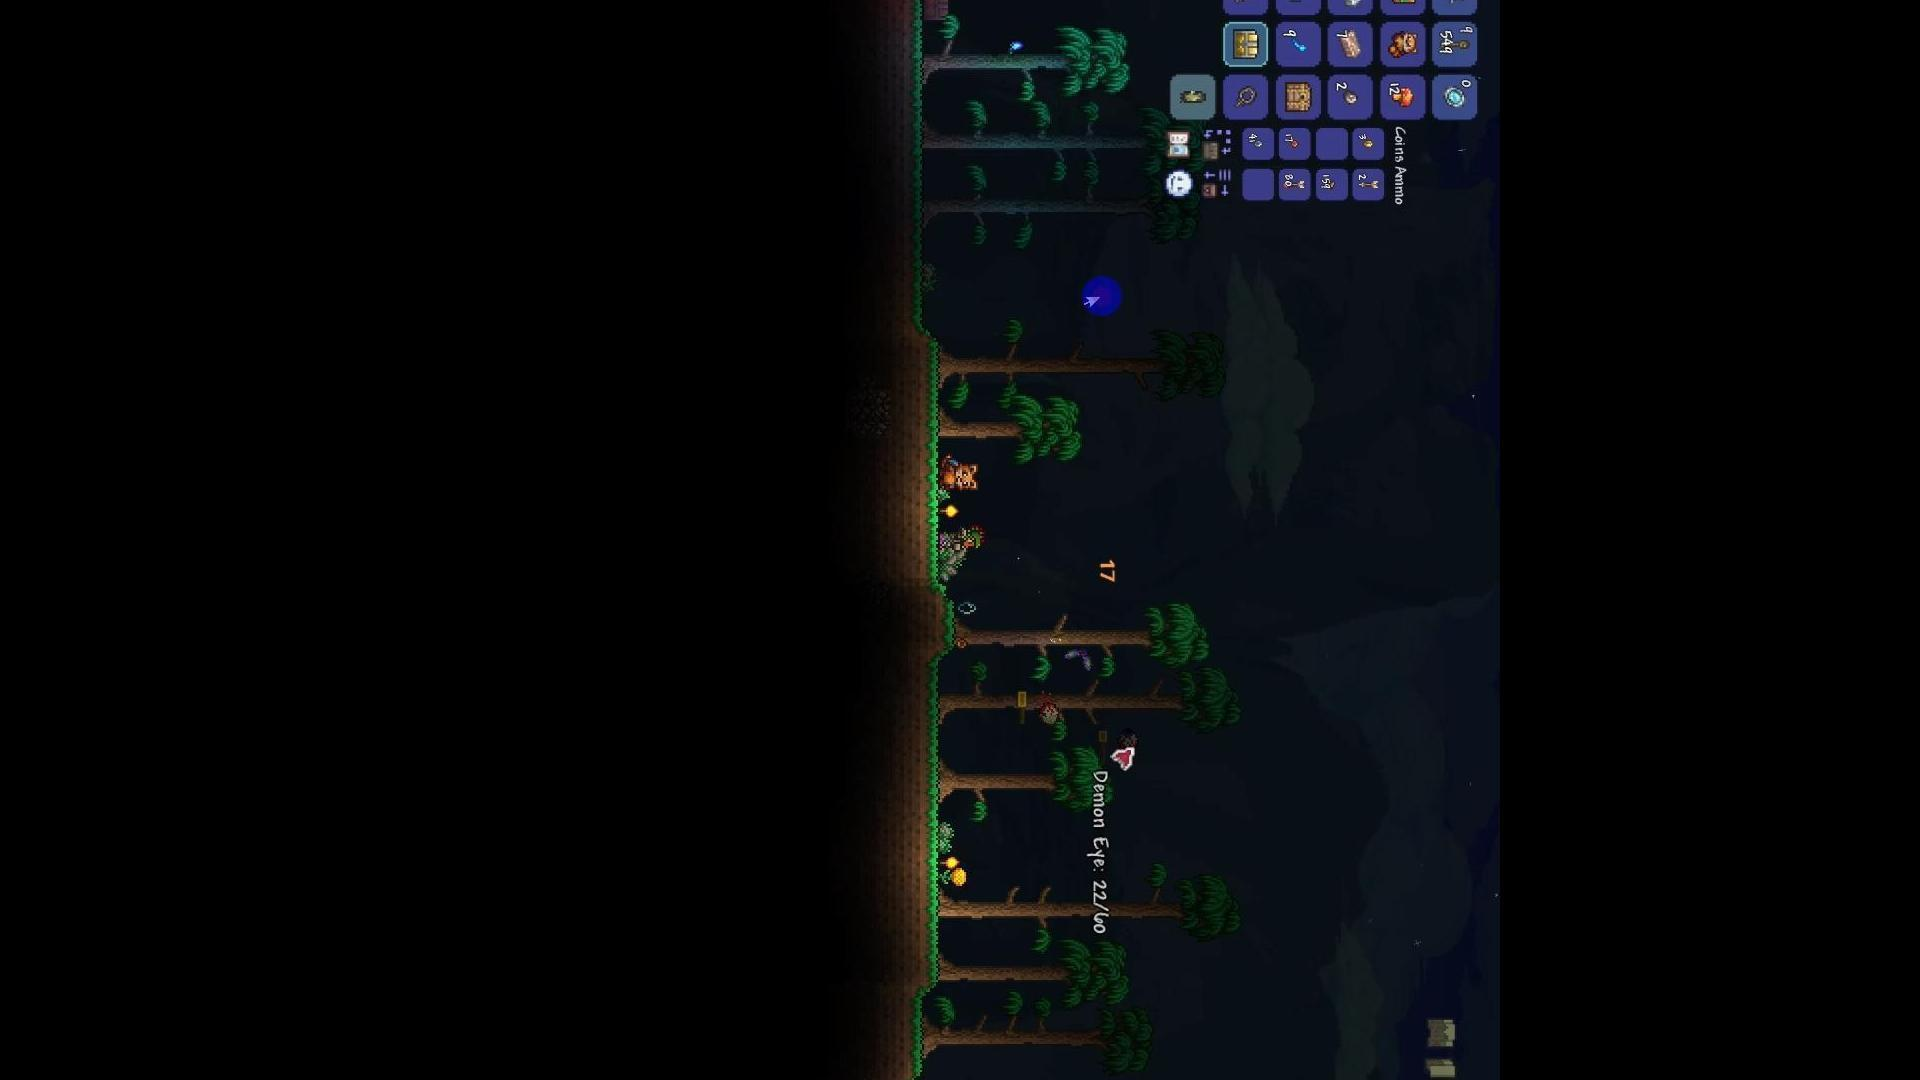cobwebI: (1441, 0, 1466, 9)
eye: (1018, 687, 1068, 731)
lens: (952, 596, 982, 617)
